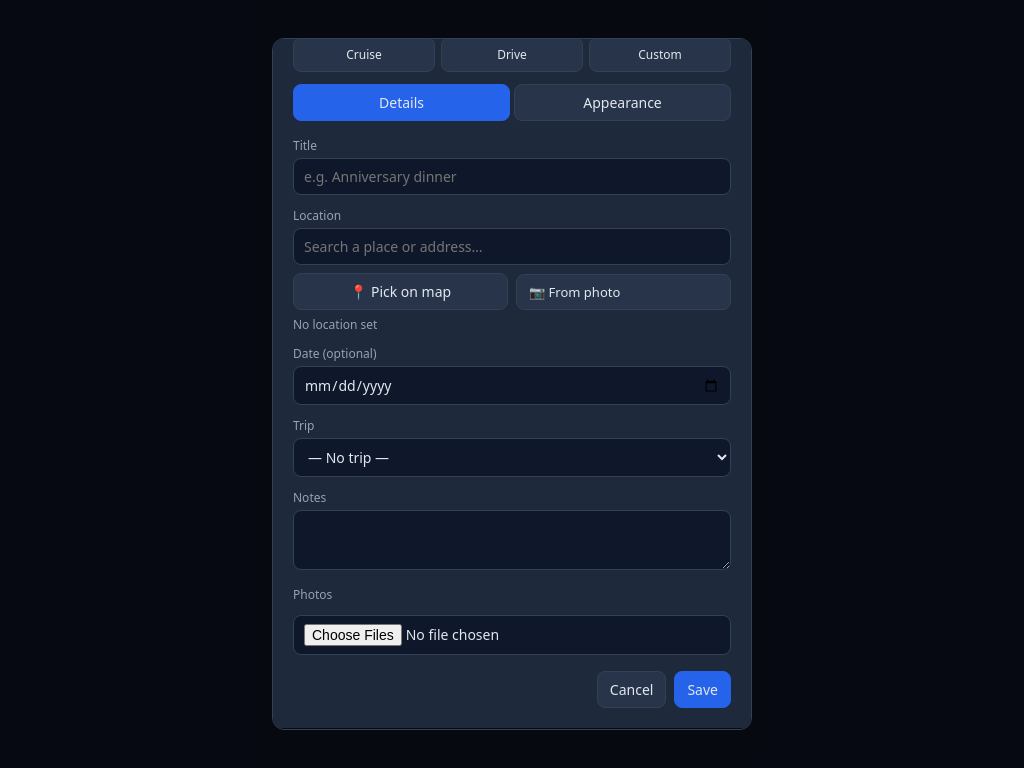
Test: validates title, then saves a place visit
(page scrolled)
Click the button "Save": (703, 690) [674,671,731,708]
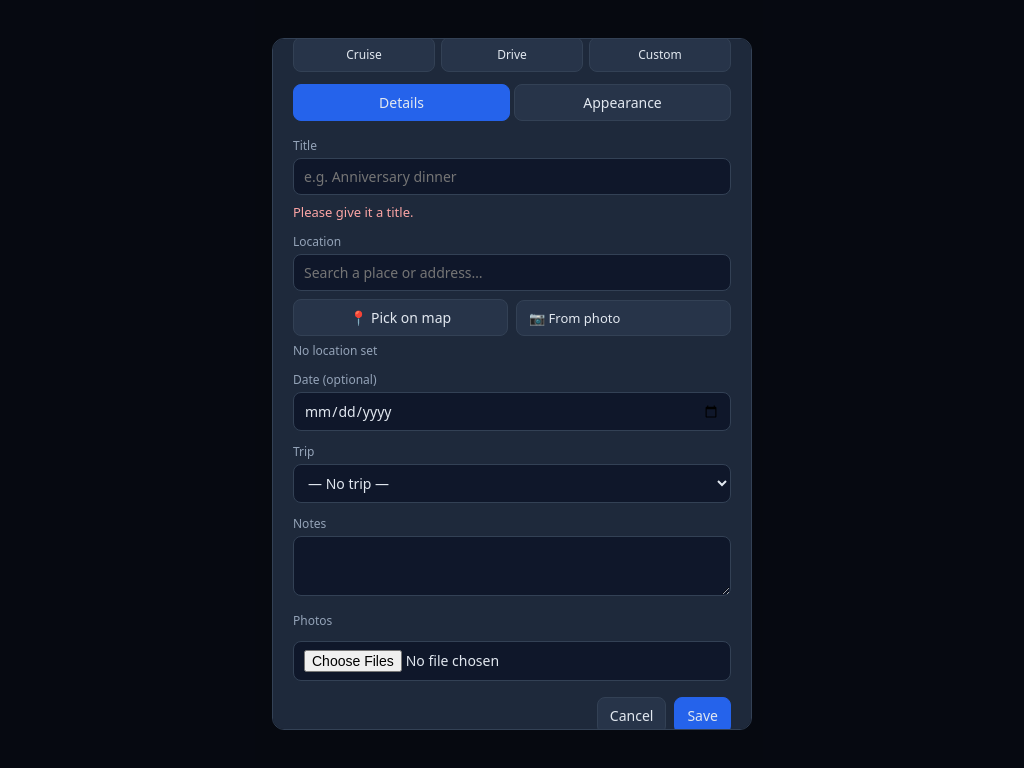
Now the text "Please give it a title." is shown, box [293,203,414,221]
In the field with placeholder "e.g. Anniversary dinner": (512, 177) [293,158,731,195], type "Dinner"
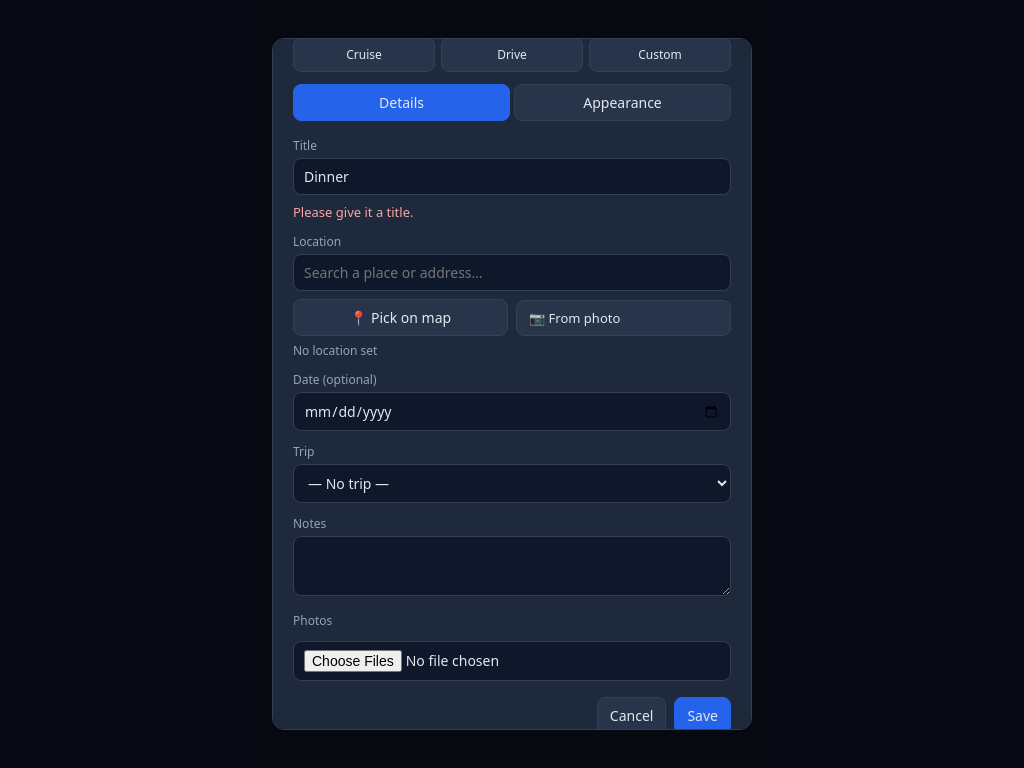
Click the button "Save": (703, 716) [674,697,731,734]
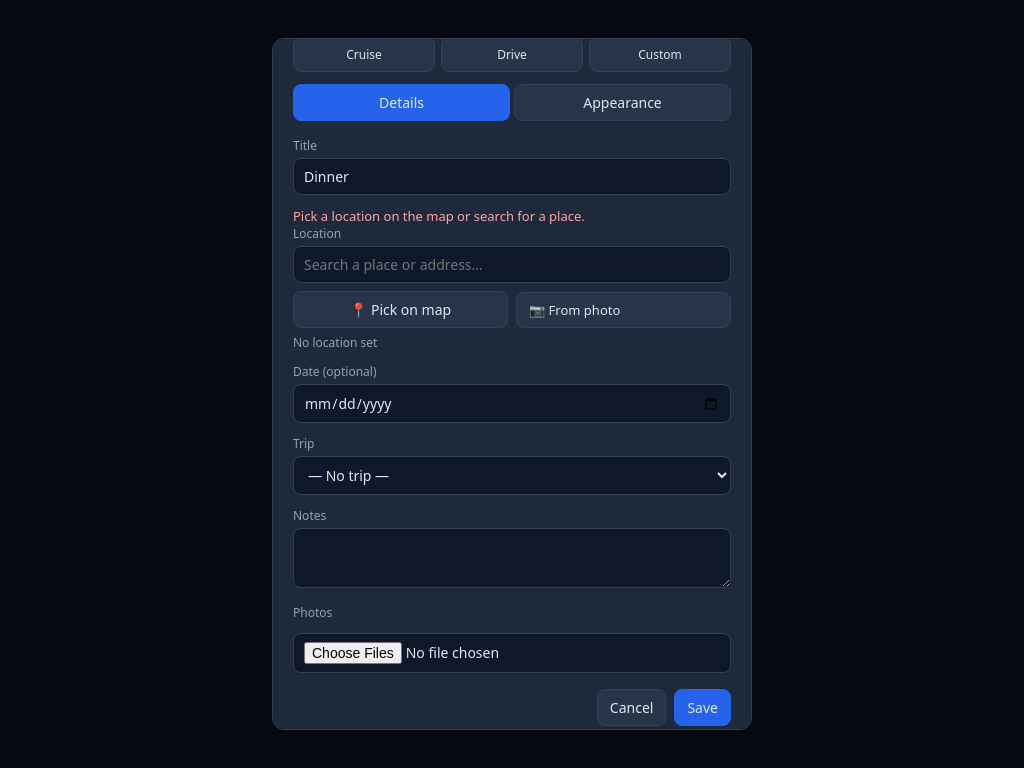
Now the text "Pick a location on the map or search for a place." is shown, box [293,207,585,225]
